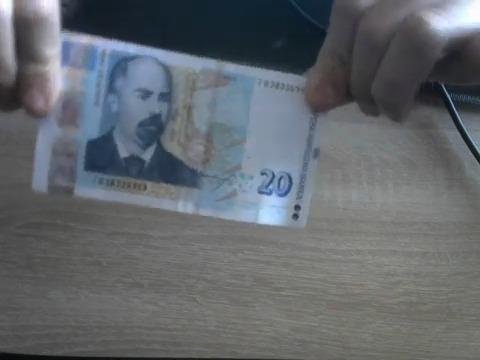20leva: (73, 50, 320, 228)
